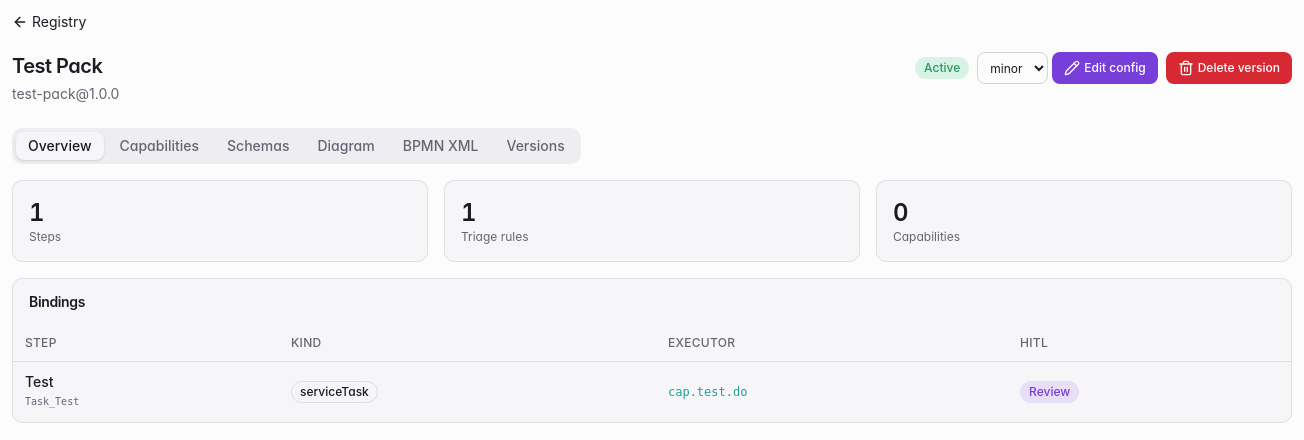
Test: Registry catalog › a pack's detail page shows its OWNED capabilities and schemas (fetched pack-scoped)
Check: the heading "Test Pack" is shown, box [12, 52, 102, 80]
Click the tab "Capabilities".
click(159, 146)  # box [108, 132, 211, 160]
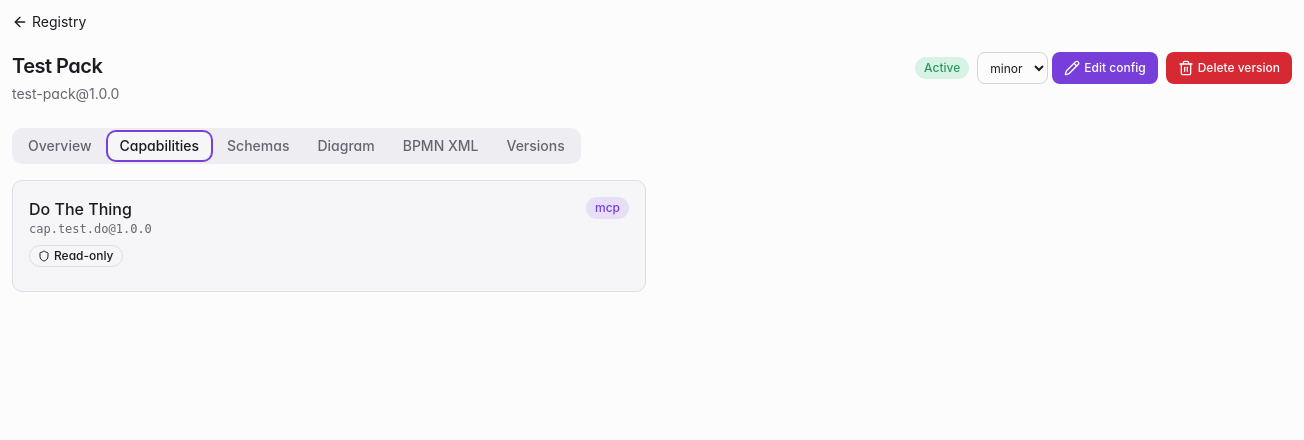
Check: the text "Do The Thing" is shown, box [29, 199, 132, 219]
Click the tab "Schemas".
click(258, 146)  # box [215, 132, 302, 160]
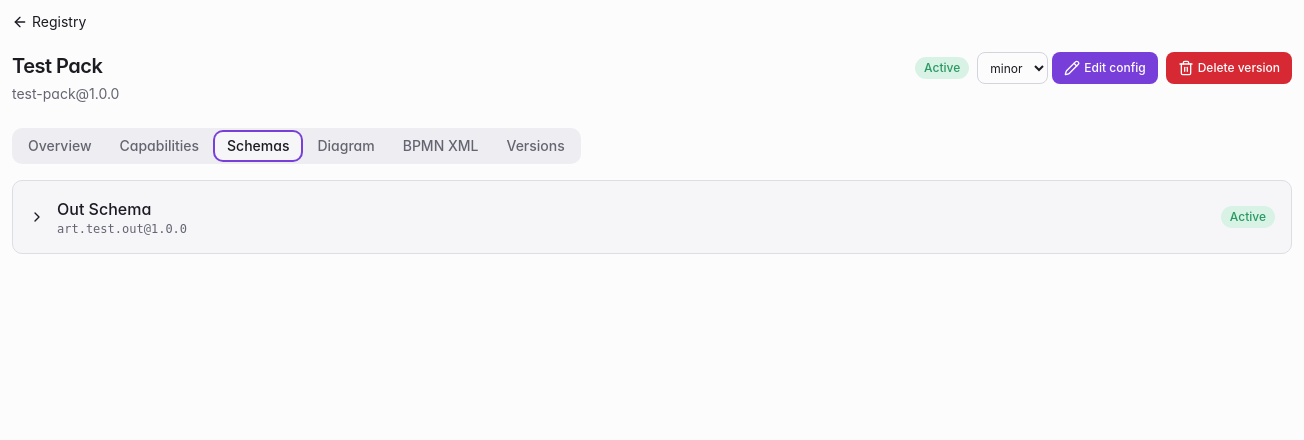
Check: the text "Out Schema" is shown, box [57, 199, 151, 219]
